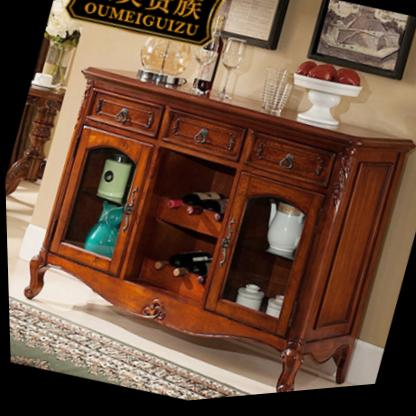Ceramic floor: (30, 271, 278, 400)
Cupboard: (19, 68, 413, 397)
